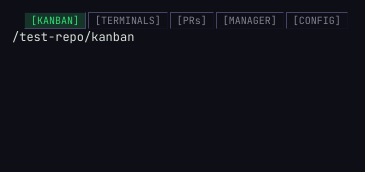
Test: ViewSwitcher › navigates to config when clicking CONFIG tab
Click the button "[CONFIG]": (317, 20) [286,12,348,29]
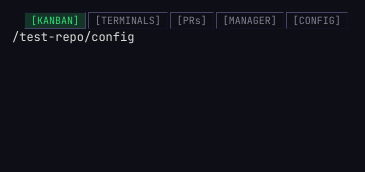
Check: the text with test id "location" reads "/test-repo/config", box [12,29,134,45]
